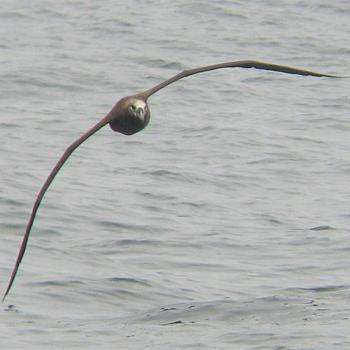001.Black_footed_Albatross: (1, 61, 349, 300)
